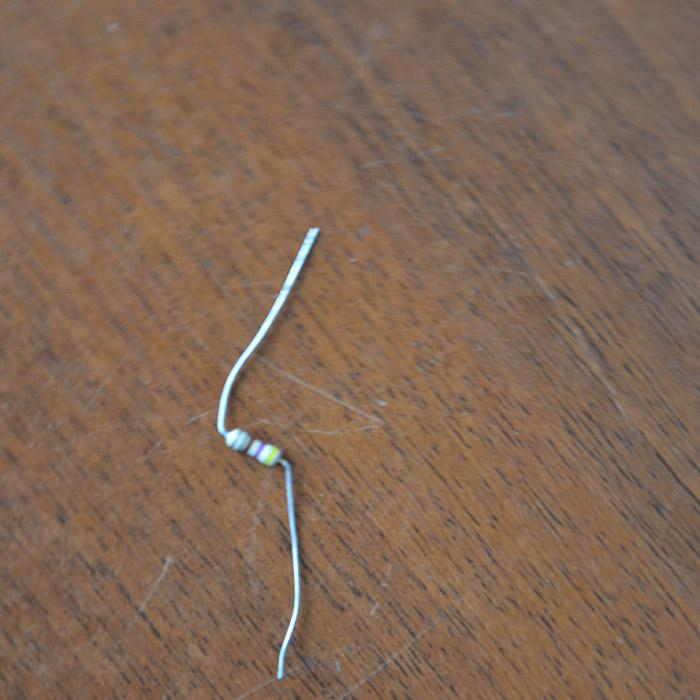resistor: (219, 426, 289, 467)
